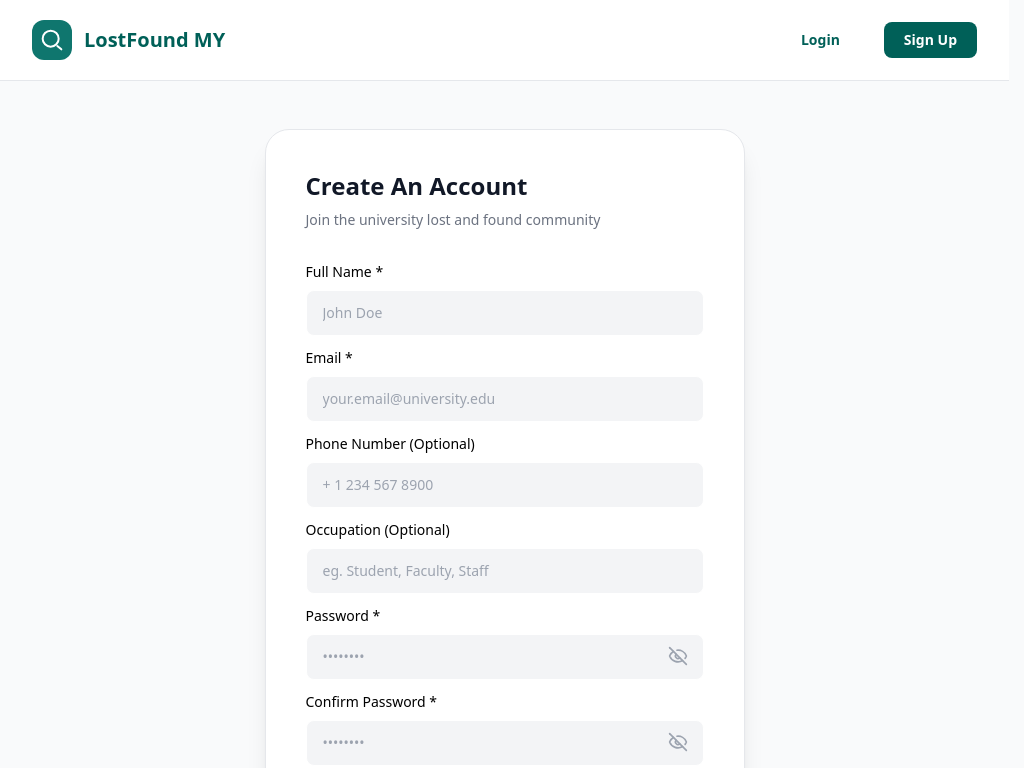
Test: Signup Component › shows error when password is shorter than 8 characters
Step 1. Type "Test User" into the field with placeholder "John Doe" → (504, 313), box [306,290,704,336]
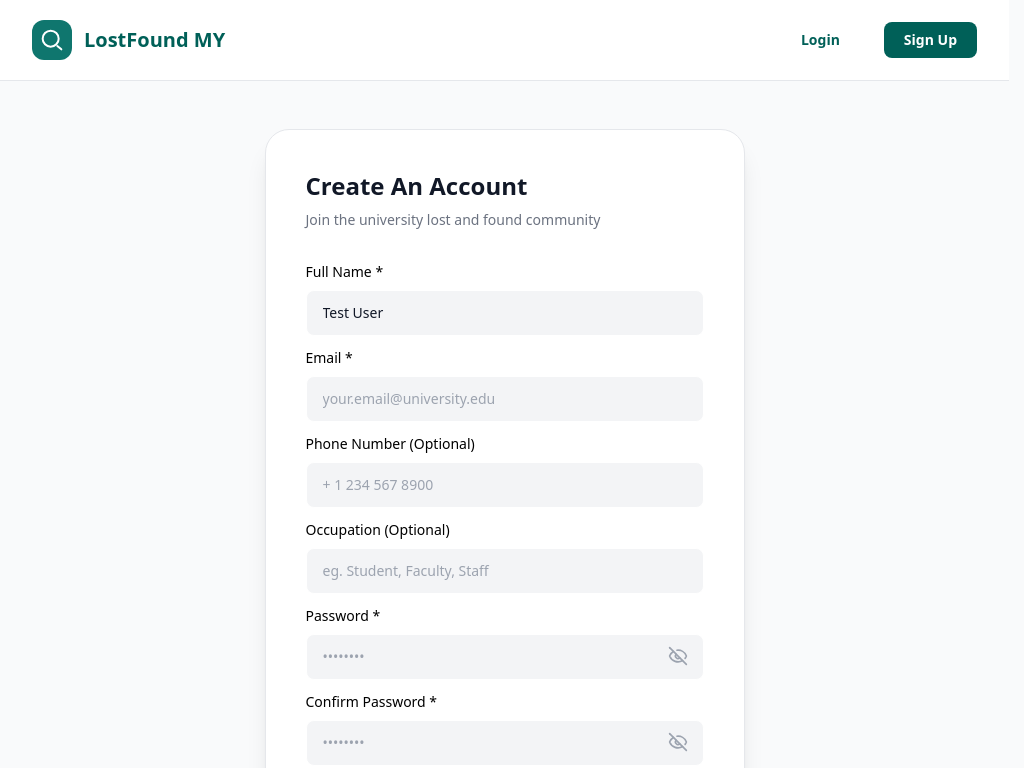
Step 2. Type "test@example.com" into the field with placeholder "your.email@university.edu" → (504, 399), box [306,376,704,422]
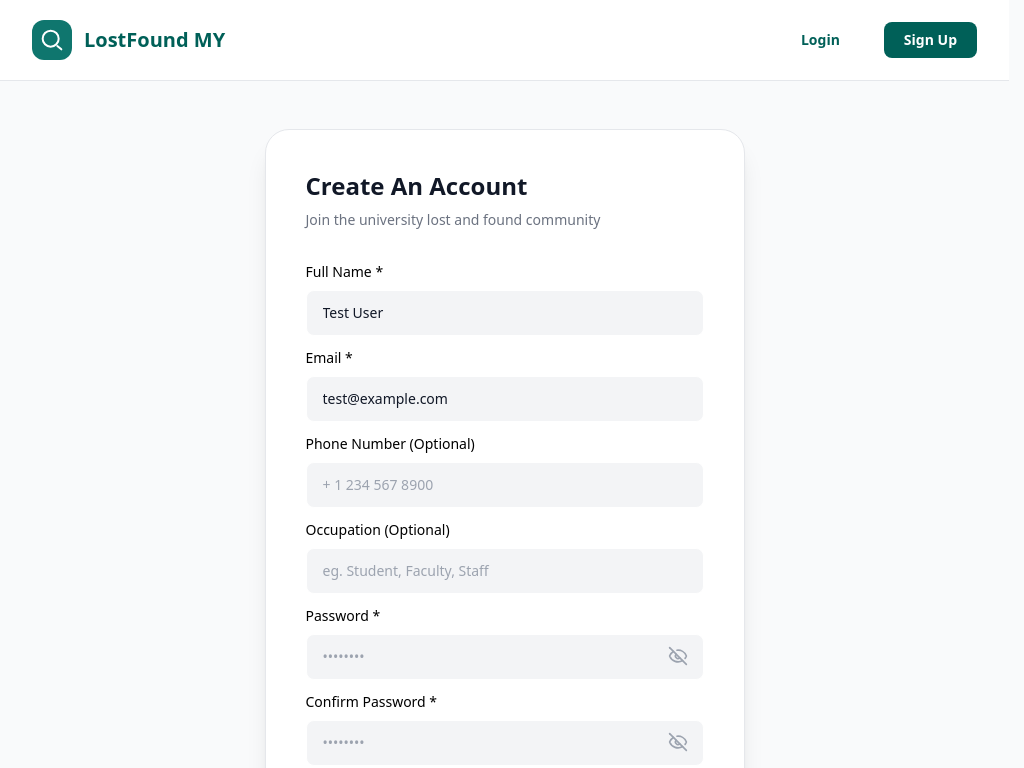
Step 3. Type "Ab1!" into the 1st password field with placeholder "••••••••" → (504, 657), box [306,634,704,680]
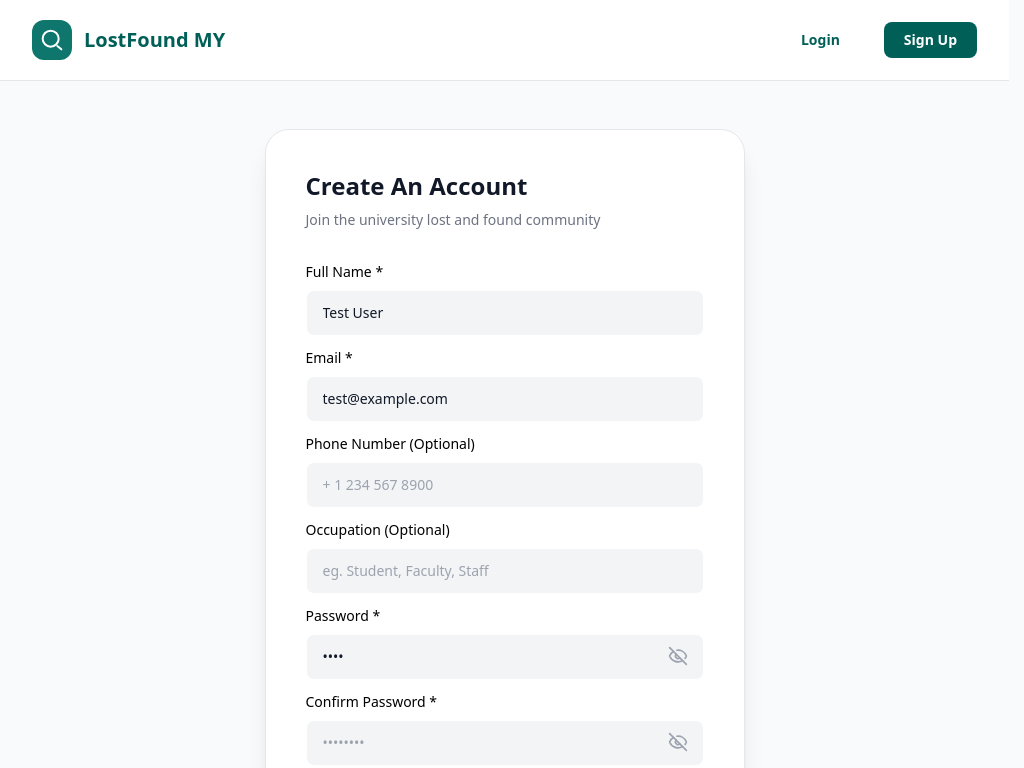
Step 4. Type "Ab1!" into the password field with placeholder "••••••••" → (504, 743), box [306,720,704,766]
(page scrolled)
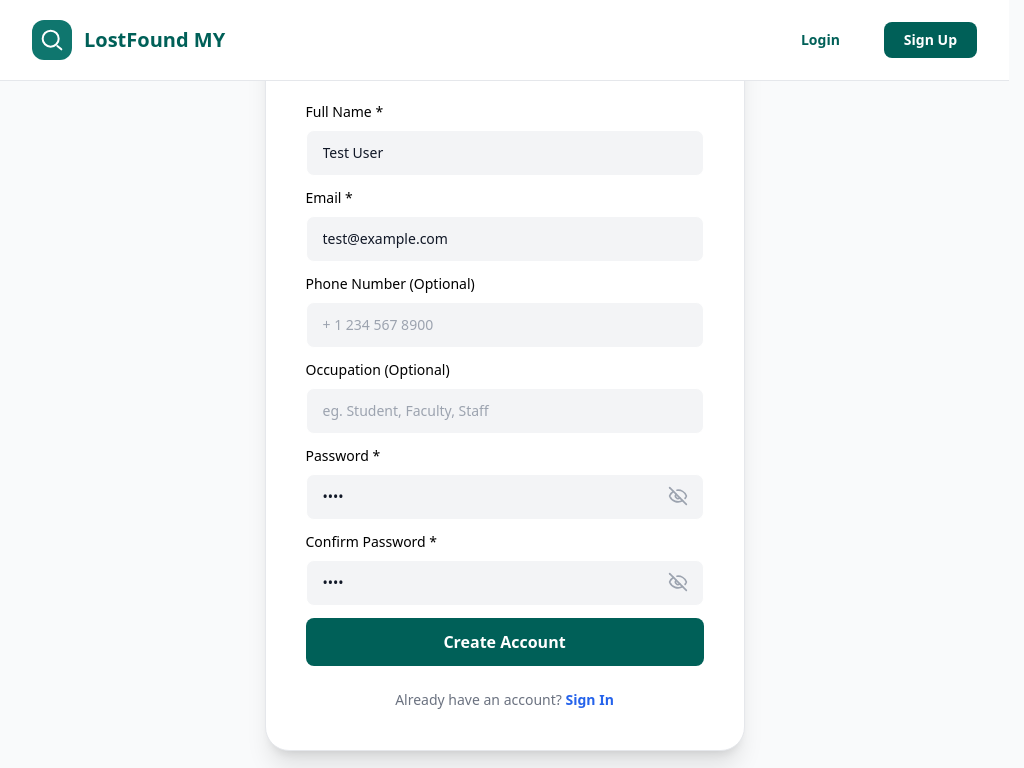
Step 5. Submit the form named "create account", box [306,102,704,666]
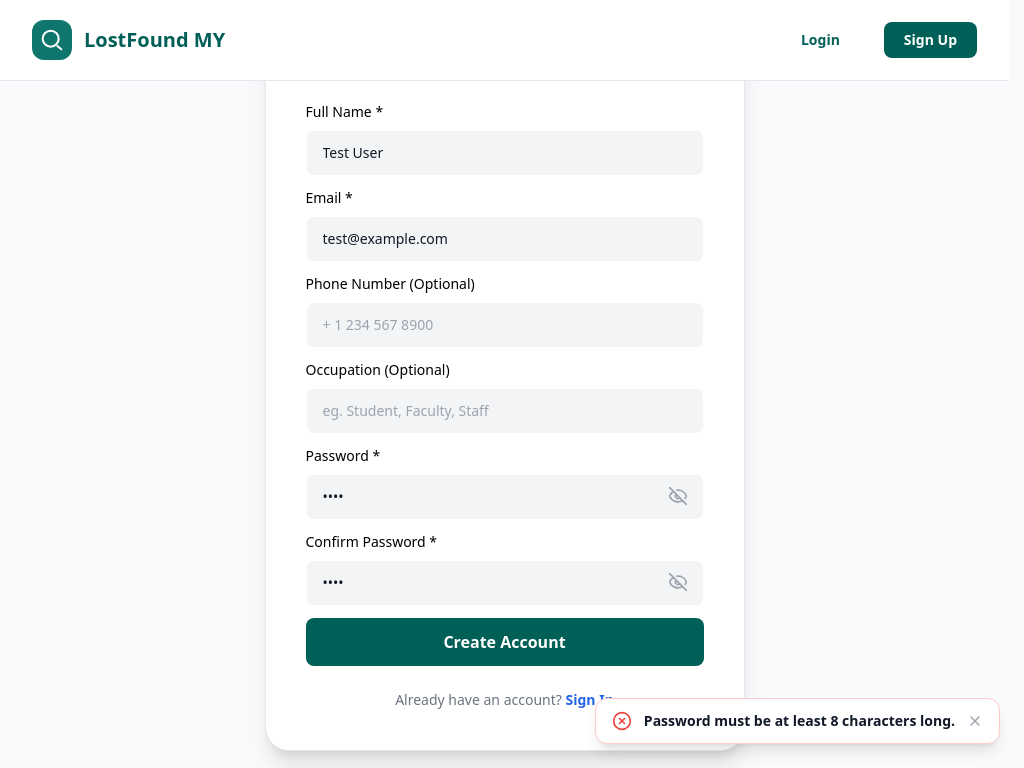
Now the text "Password must be at least 8 characters long." is shown, box [644,711,955,731]
